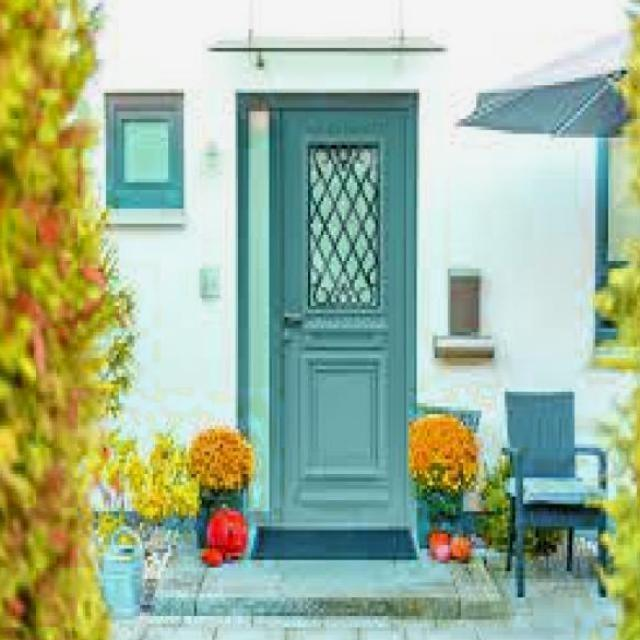door: (268, 99, 414, 529)
